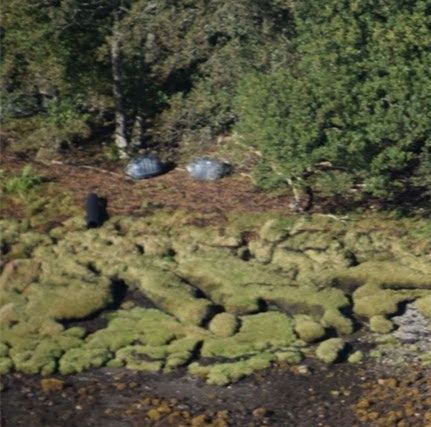scattered_barrel: (75, 150, 236, 235)
